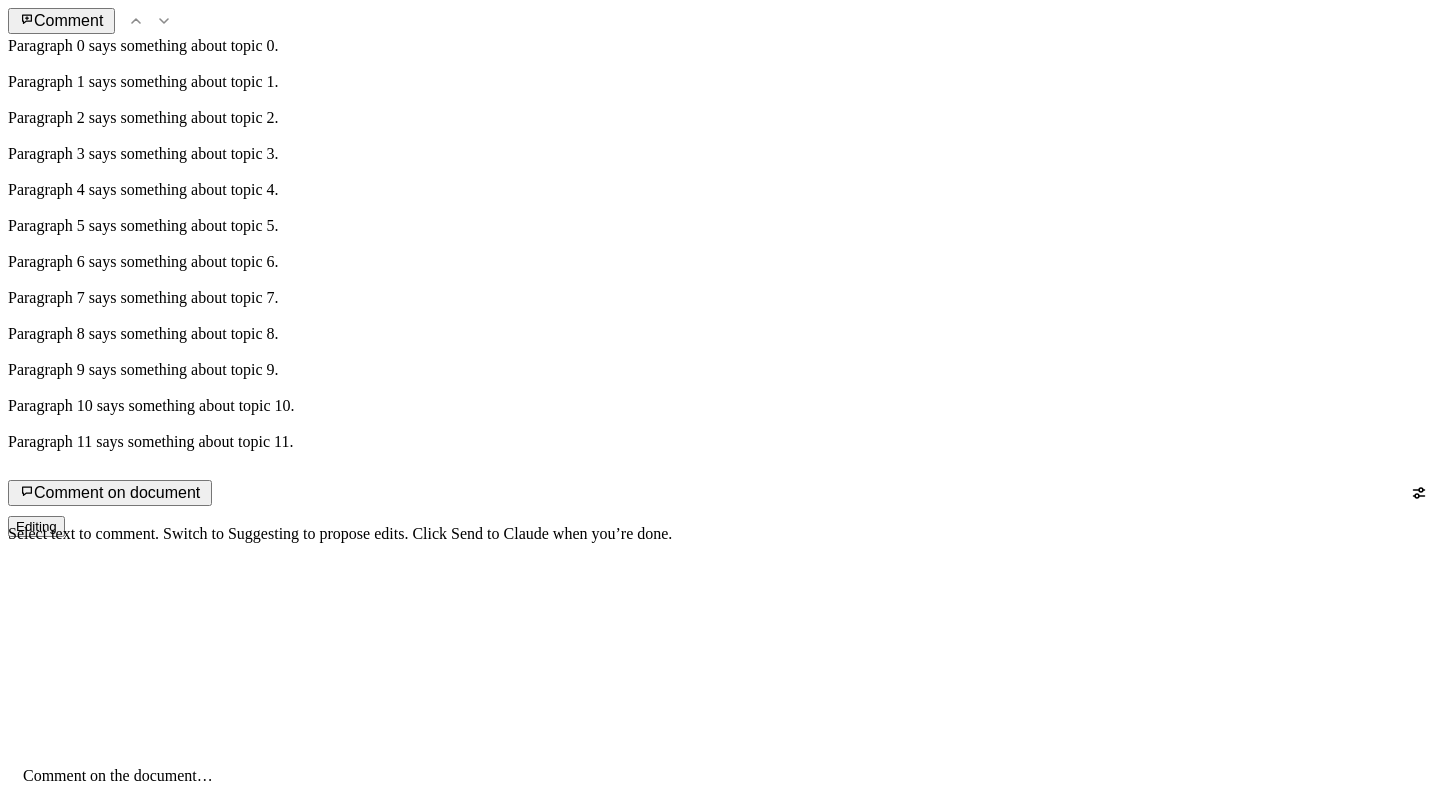
Test: the composer and the reply box show it › a new comment that can't be posted: the sentence, the text kept, the button back to Post
The width and height of the screenshot is (1440, 810).
Click the button "Comment" at x=62, y=21, box [8,8,115,34]
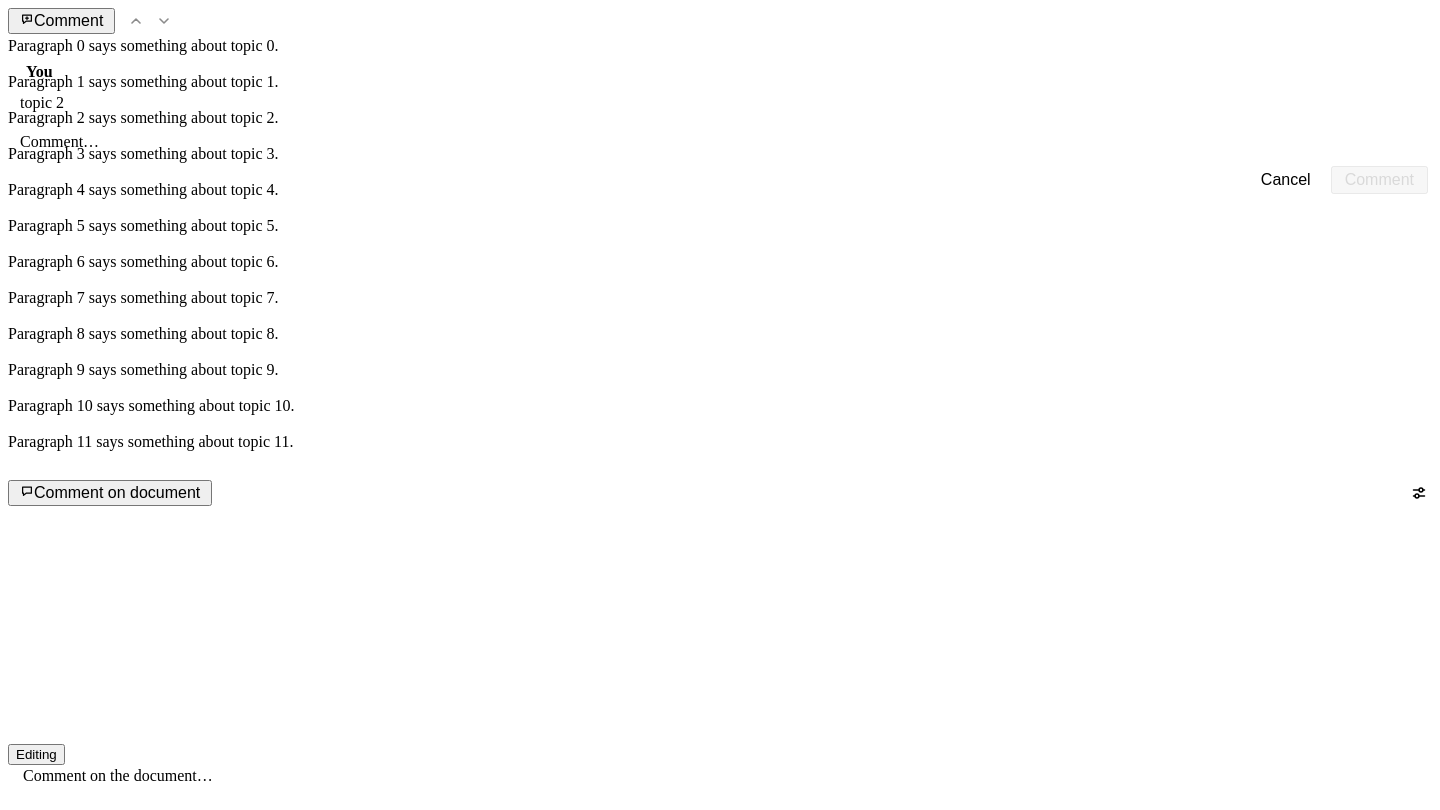
Type "Which quarter exactly?" into the text box with placeholder "Comment…" at x=720, y=142, box [12,124,1428,160]
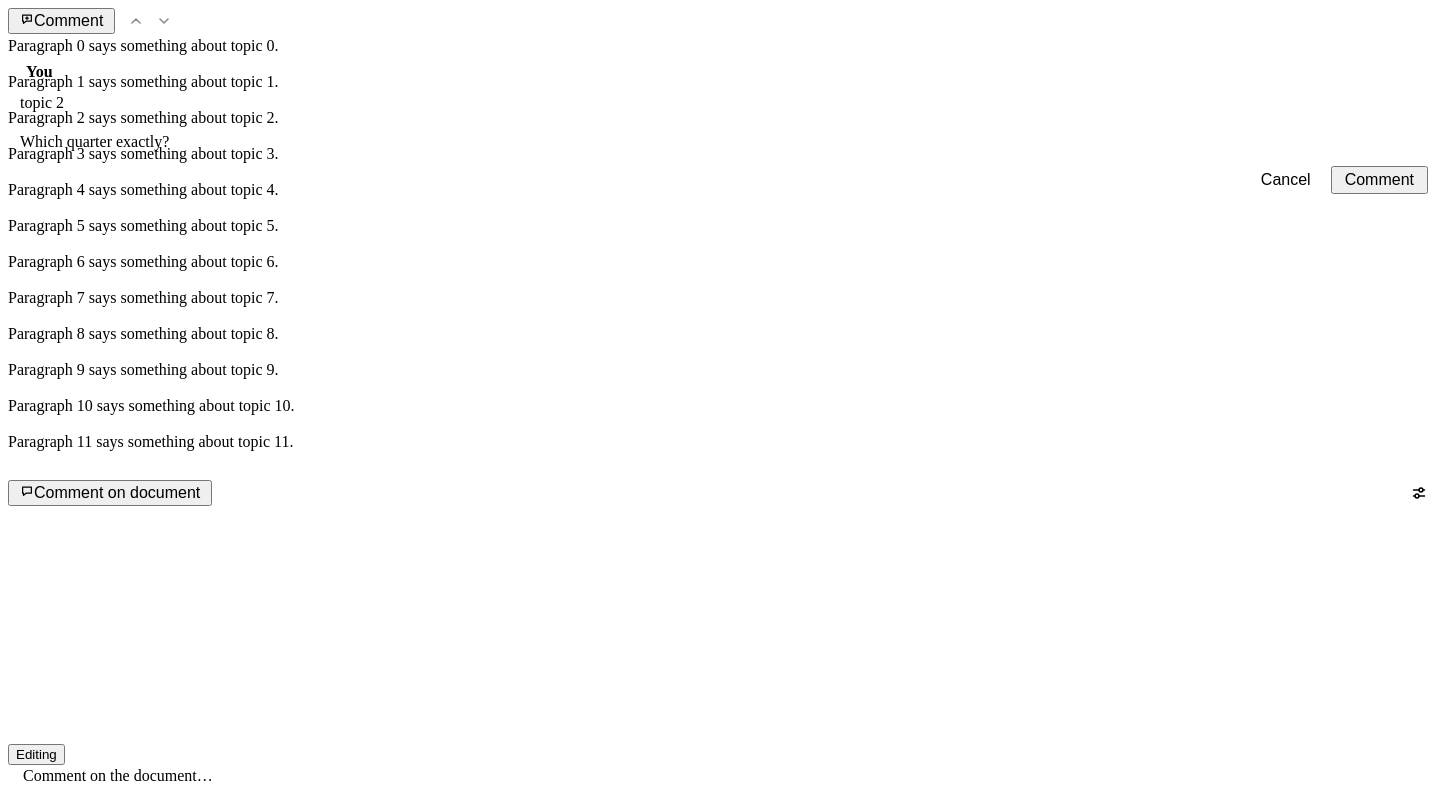
Click the 2nd button "Comment" at x=1379, y=180, box [1331,166,1428,194]
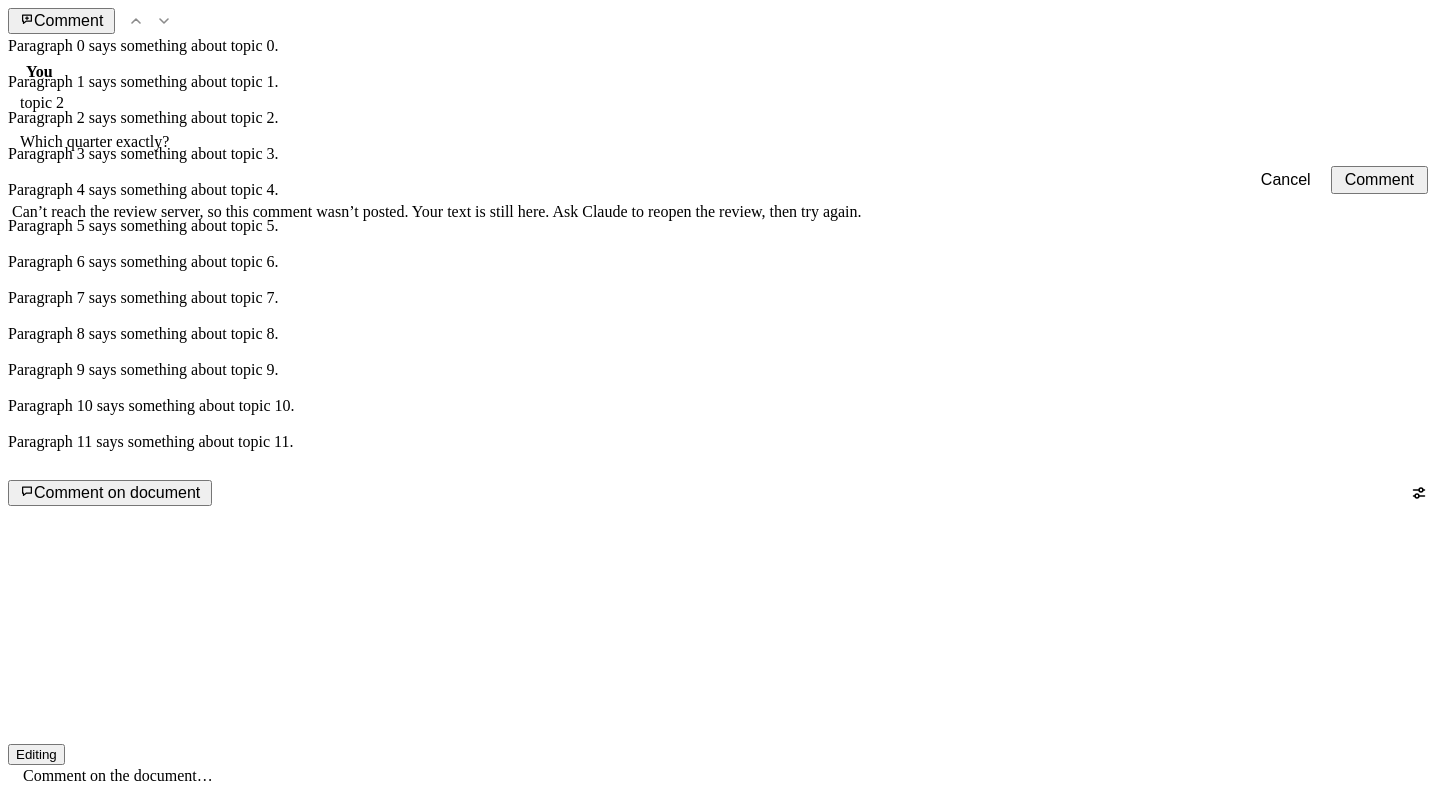
Expected: the message with class "mdr-composer-error" shows "Can’t reach the review server, so this comment wasn’t posted. Your text is still here. Ask Claude to reopen the review, then try again.", [12,203,862,220]
